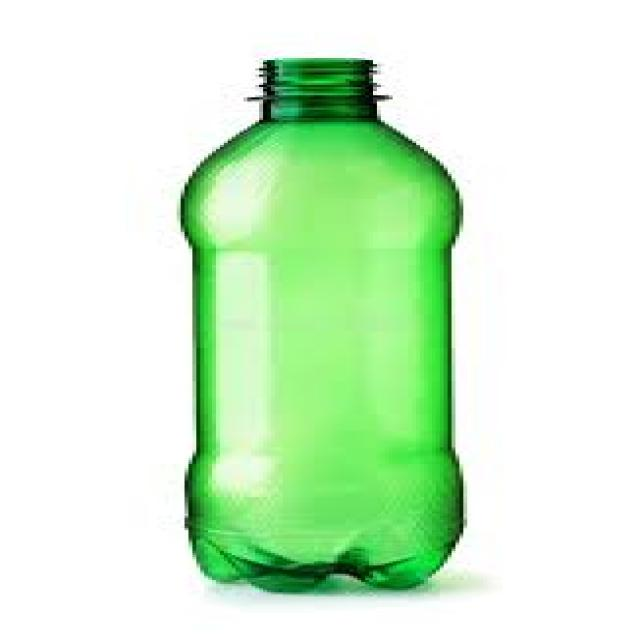bottom: (163, 518, 499, 600)
no_cap: (222, 44, 420, 128)
